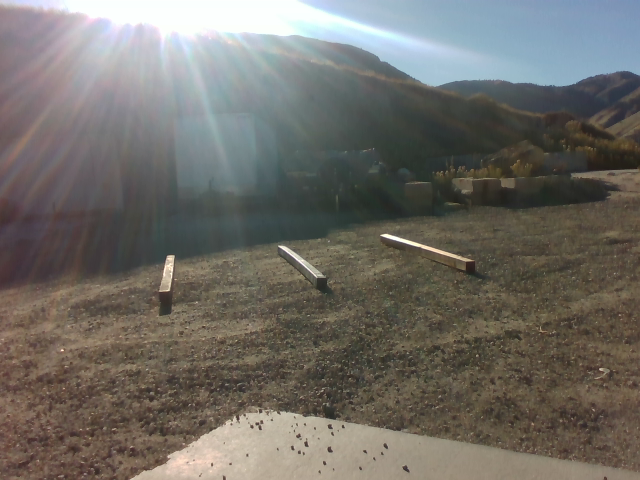Dunnage: (136, 228, 484, 335)
